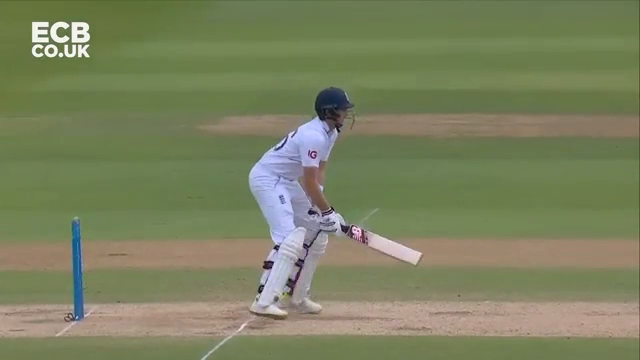batsman: (247, 85, 353, 321)
